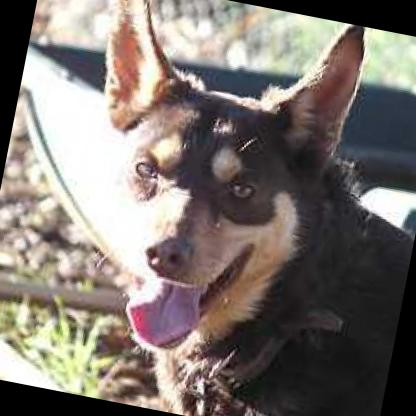kelpie: (32, 0, 416, 416)
